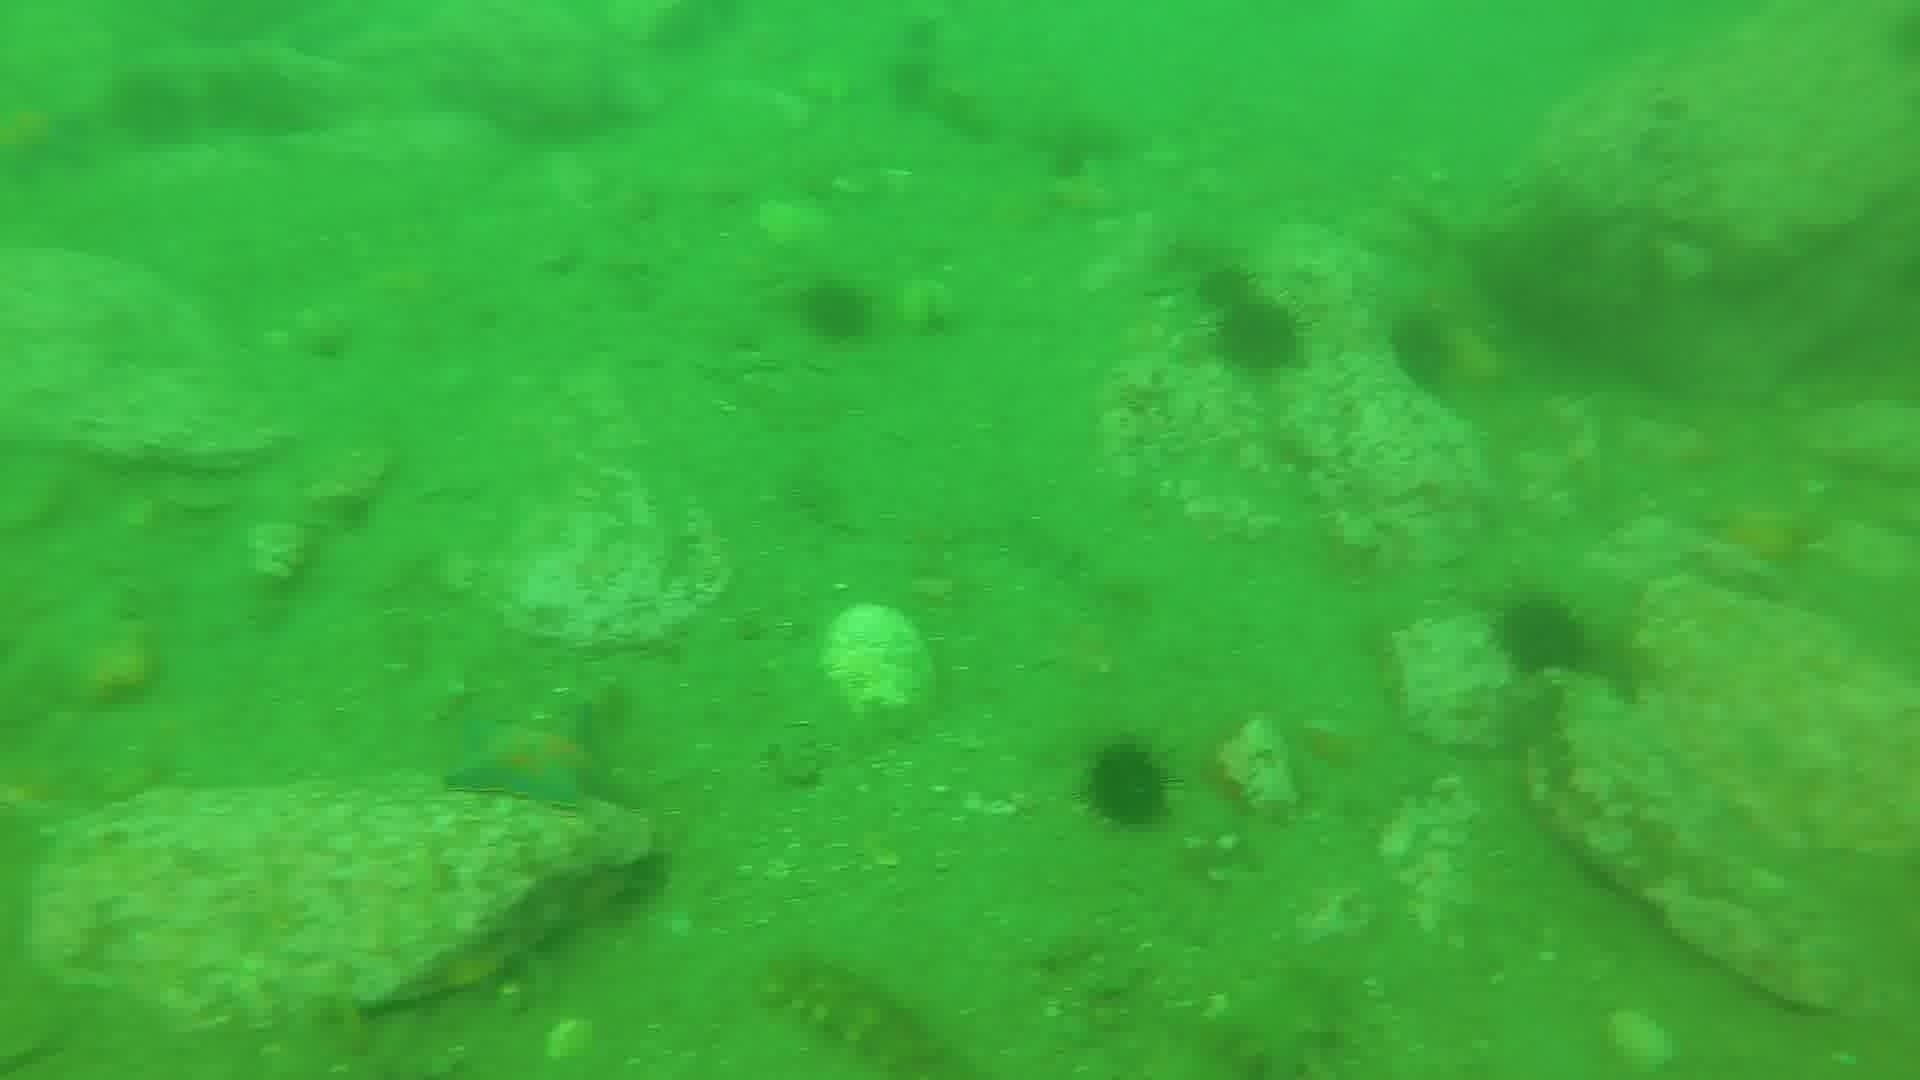echinus: (1076, 737, 1178, 835), (1487, 592, 1594, 680), (1208, 295, 1308, 380), (105, 67, 200, 152), (1383, 307, 1462, 396), (793, 276, 880, 349), (1189, 258, 1262, 320)
holothurian: (756, 945, 956, 1075), (1203, 949, 1366, 1079)
starfish: (442, 711, 616, 815), (1, 84, 94, 193), (1700, 496, 1822, 568)
